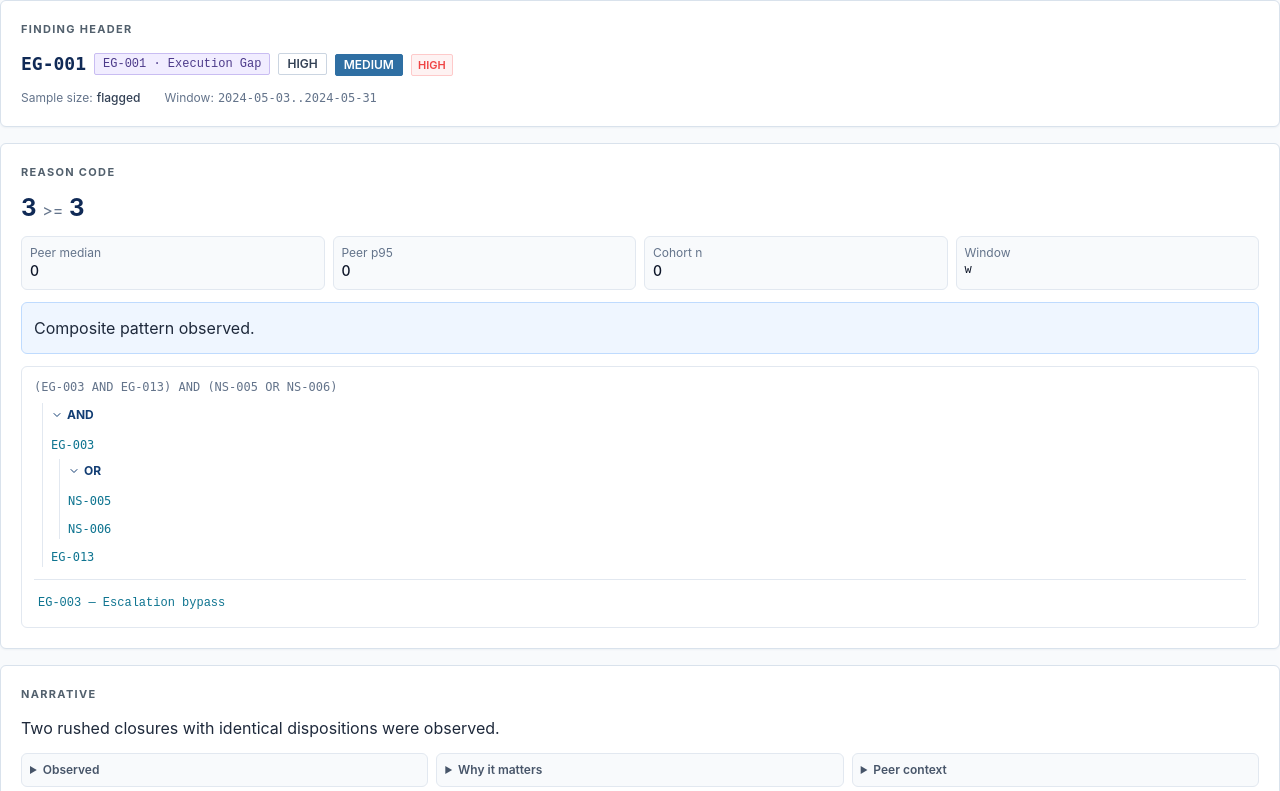
Test case: FindingDetail › renders an expandable composite tree with clickable leaves
Expected: the text "(EG-003 AND EG-013) AND (NS-005 OR NS-006)" is shown, top-left (34, 380), bottom-right (337, 394)
Click the button with aria-label "Inspect leaf reason code EG-003". click: (60, 603)
box: top-left (34, 591), bottom-right (1246, 615)
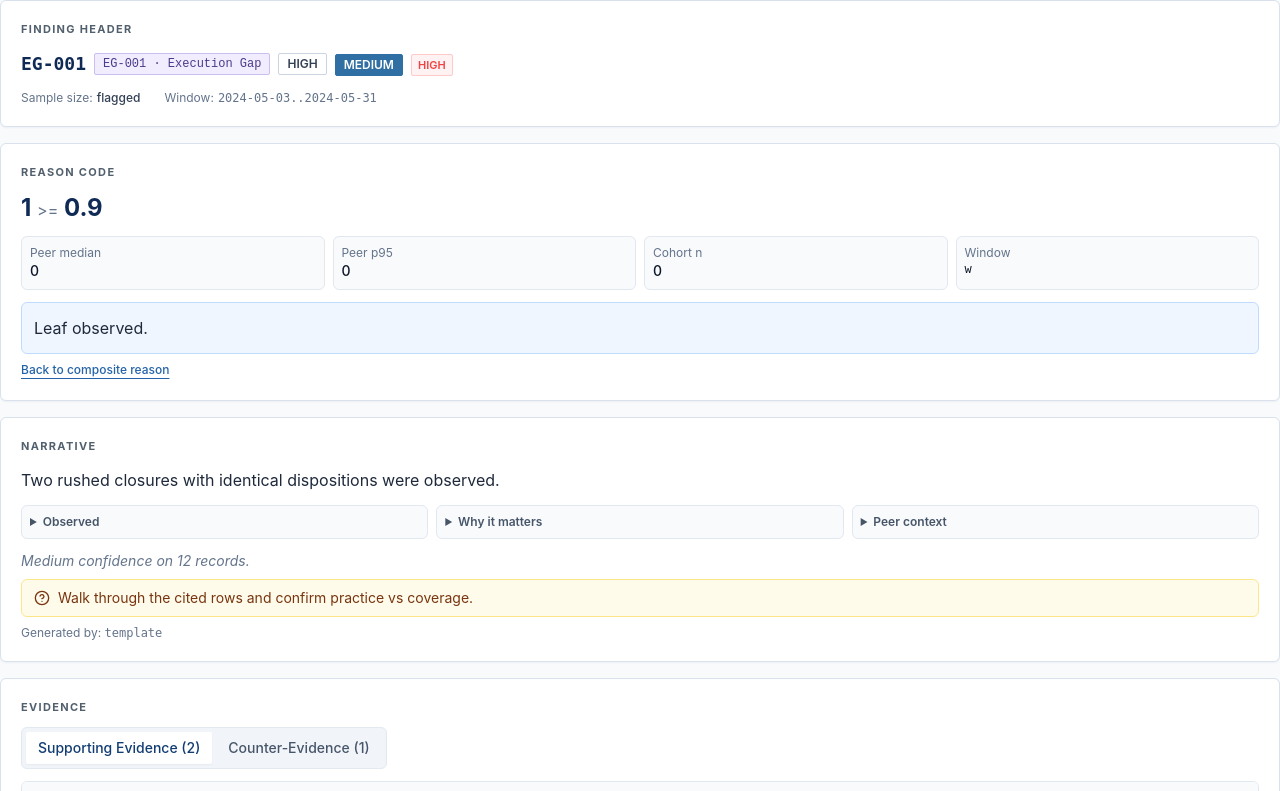
Now the text "Leaf observed." is shown, box top-left (21, 302), bottom-right (1259, 354)
Now the button "Back to composite reason" is shown, box top-left (21, 362), bottom-right (170, 378)
